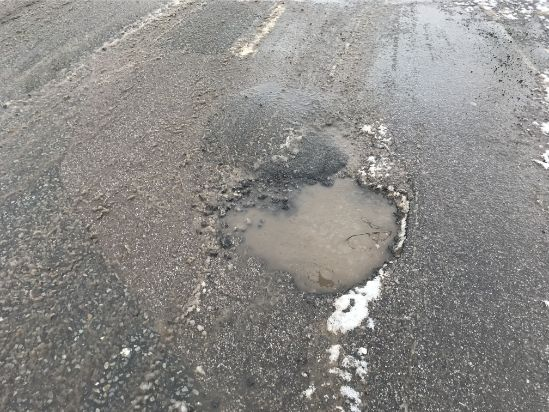pothole: (205, 165, 409, 301)
